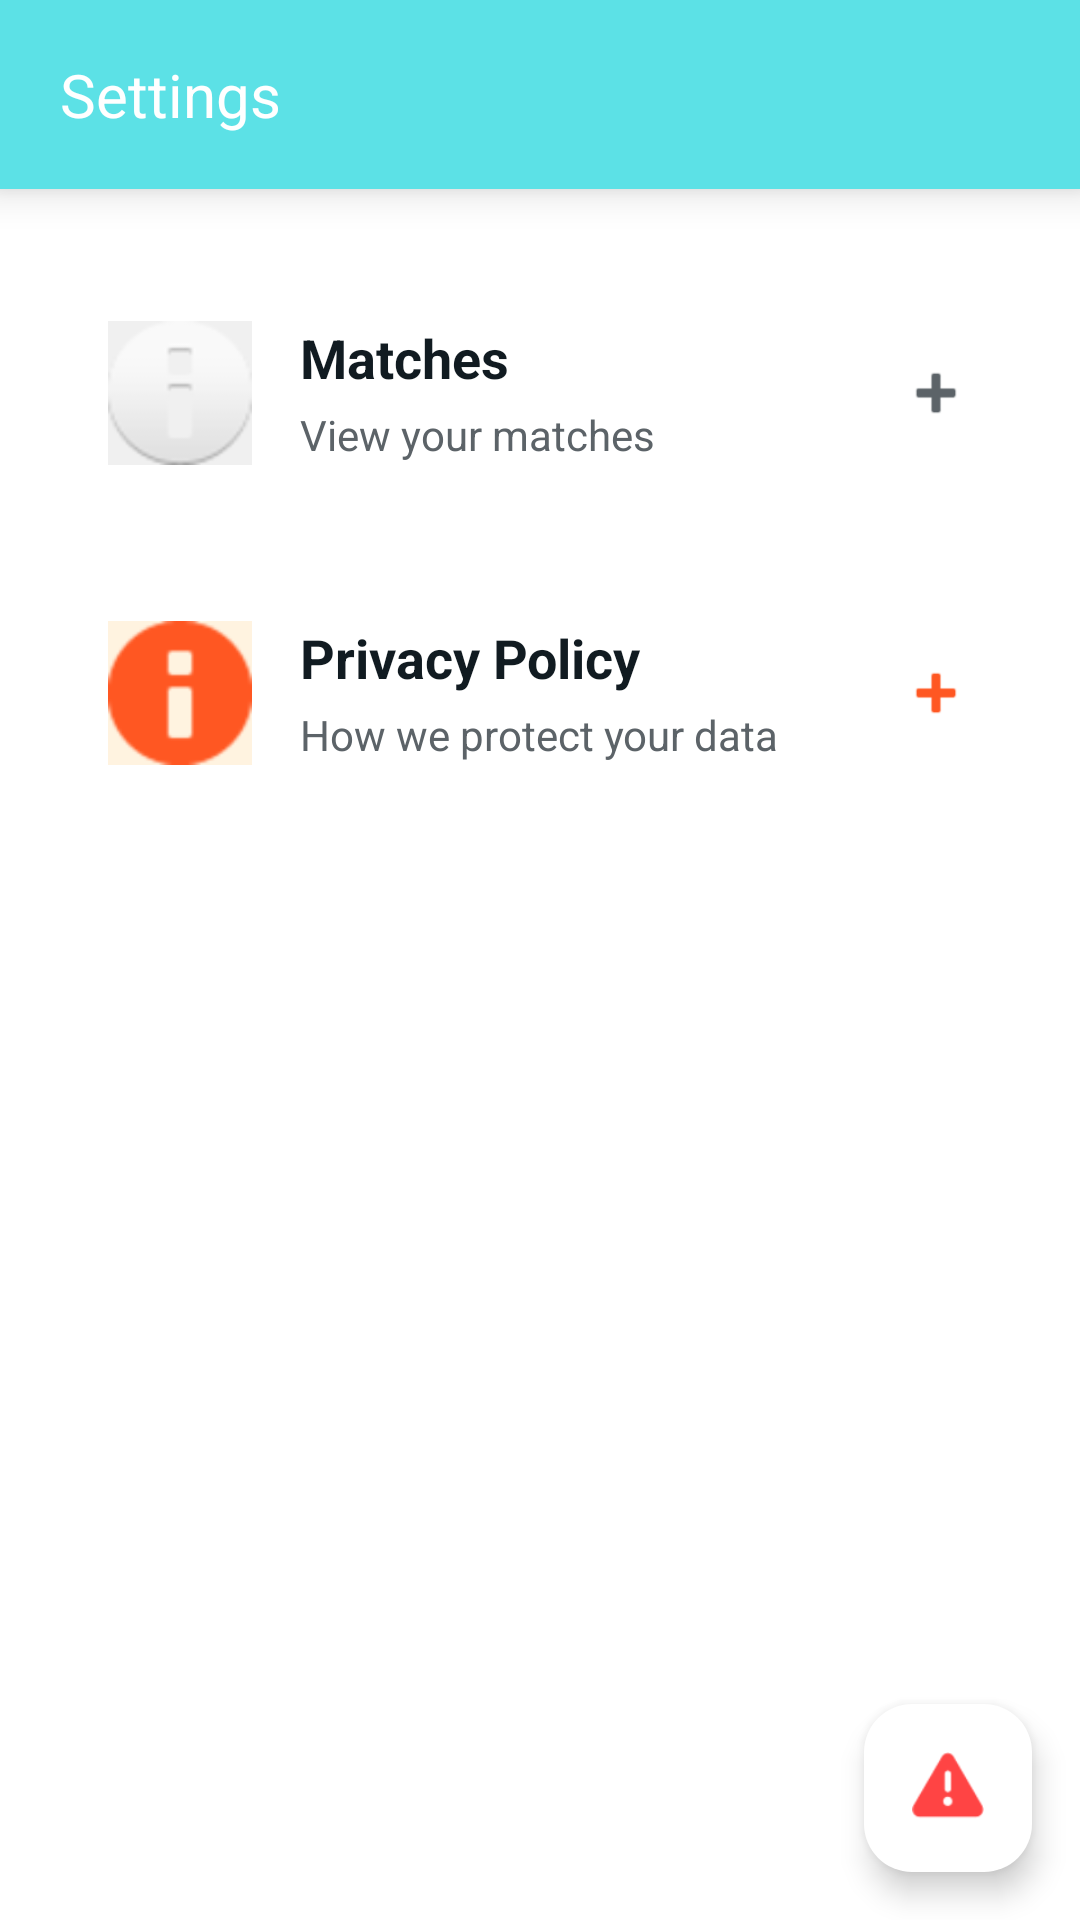

Named icons in this screenshot (1080×1920) and their bounding boxes, {"x1": x1, "y1": y1, "x2": x2, "y2": y2}:
add: {"x1": 916, "y1": 373, "x2": 956, "y2": 413}, {"x1": 915, "y1": 673, "x2": 956, "y2": 713}
Report safety issue: {"x1": 912, "y1": 1752, "x2": 984, "y2": 1818}
